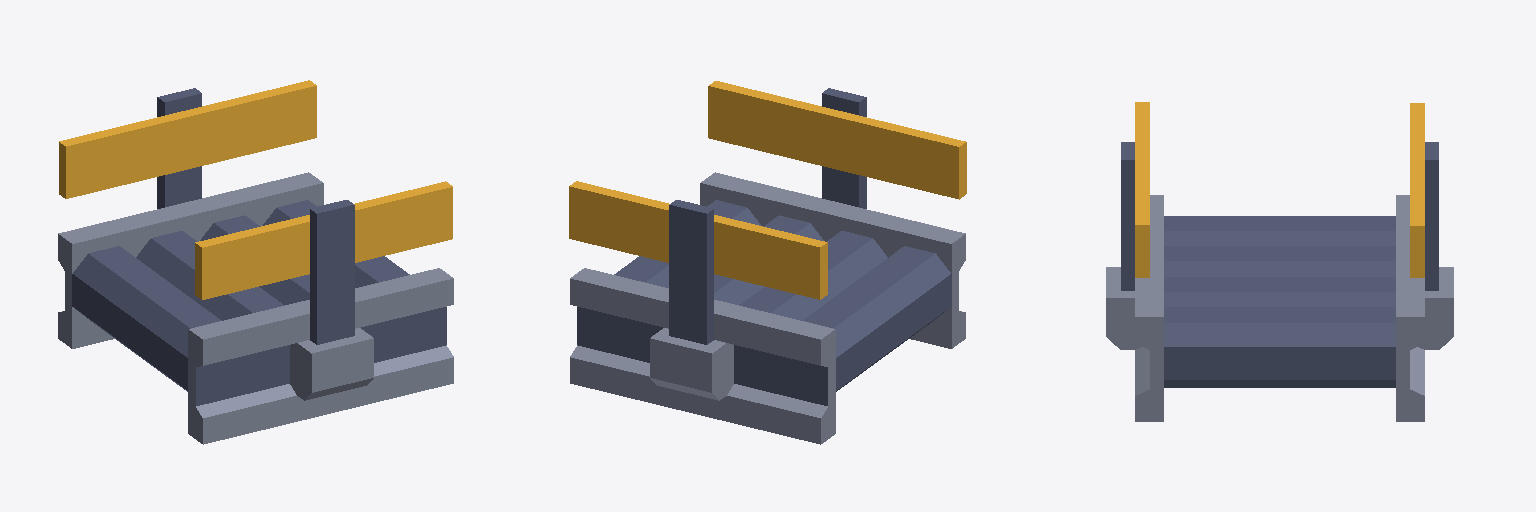
Rendered from conveyor-bars-fence.obj.
3 renders of one model, left to right at view 1: azimuth 30°, elevation 25°; view 2: azimuth 150°, elevation 25°; view 3: azimuth 270°, elevation 25°, orthographic.
Parts seen in each view (by area): view 1: Group; view 2: Group; view 3: Group.
Boxes of the visible parts, x1=… form: Group: x1=58, y1=80, x2=453, y2=444; Group: x1=569, y1=81, x2=966, y2=444; Group: x1=1106, y1=102, x2=1453, y2=421.
Bounding box in the file's own units: 1.01 × 0.8 × 1.2.